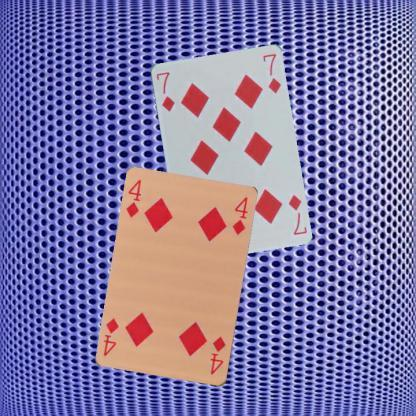4d: (123, 178, 143, 220), (208, 334, 227, 376)
7d: (153, 68, 176, 112), (285, 192, 308, 236)
